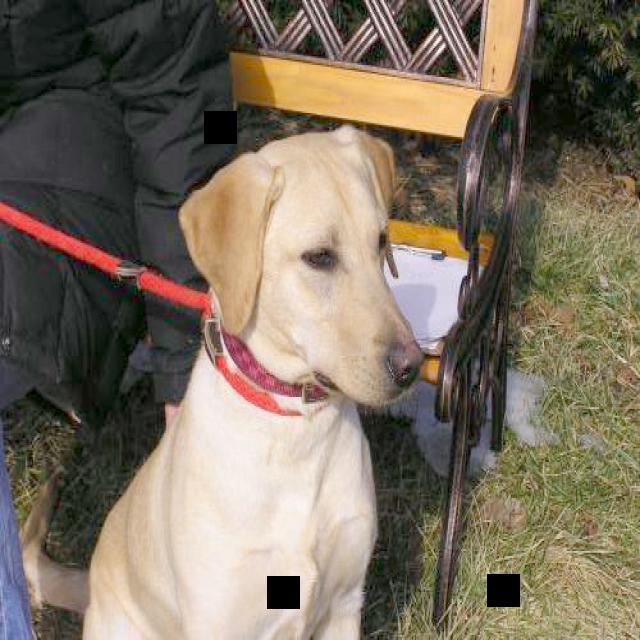adult_dog: (15, 120, 425, 640)
